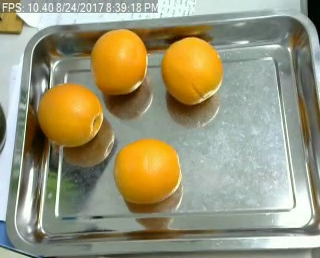Orange: (114, 138, 182, 204), (34, 82, 101, 146), (160, 36, 223, 104), (89, 27, 147, 95)
